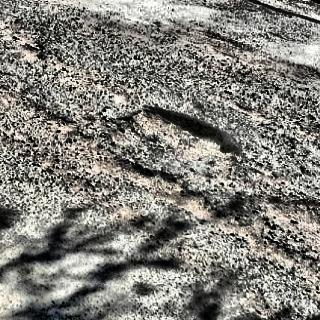pothole: (120, 104, 233, 160)
